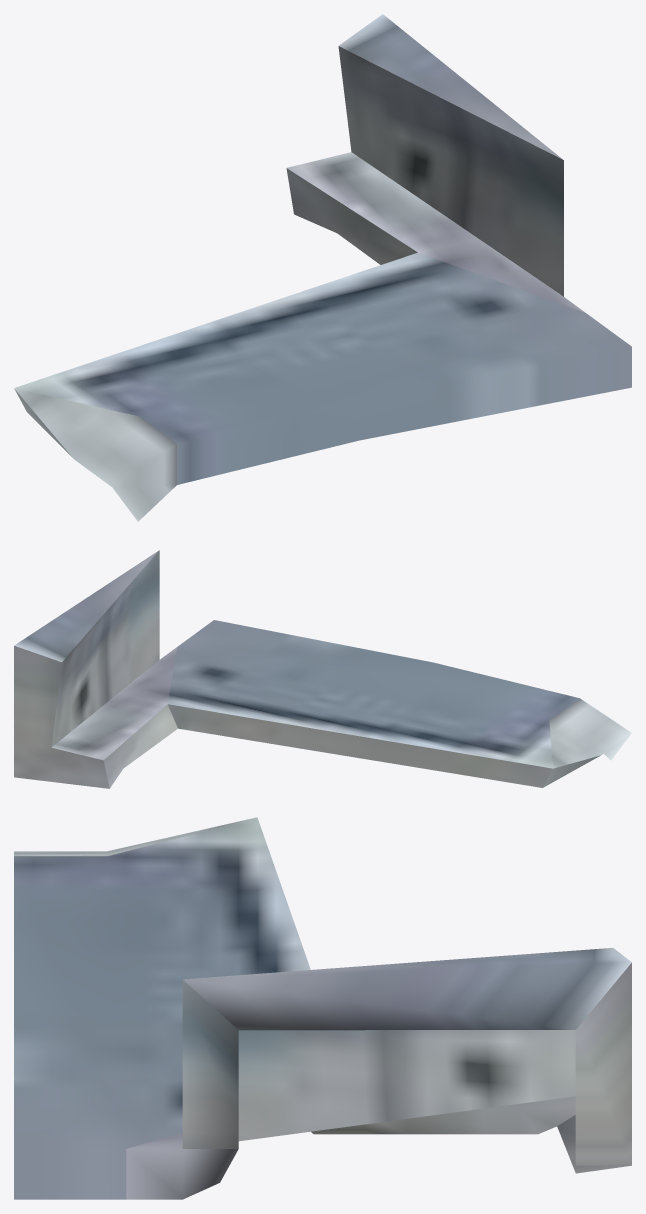
3 renders of one model, top to bottom at view 1: azimuth 30°, elevation 25°; view 2: azimuth 150°, elevation 25°; view 3: azimuth 270°, elevation 25°, orthographic. The views are drawn at different scales.
Visible parts, largest first — view 1: 3043627270436171745_0; view 2: 3043627270436171745_0; view 3: 3043627270436171745_0.
Boxes of the visible parts, x1=… form: 3043627270436171745_0: x1=14, y1=14, x2=631, y2=521; 3043627270436171745_0: x1=14, y1=550, x2=631, y2=788; 3043627270436171745_0: x1=14, y1=817, x2=631, y2=1199.
Size of the model in its own units: 12.58 by 4.63 by 10.18.
Materials: 1 (1 with a texture image).
